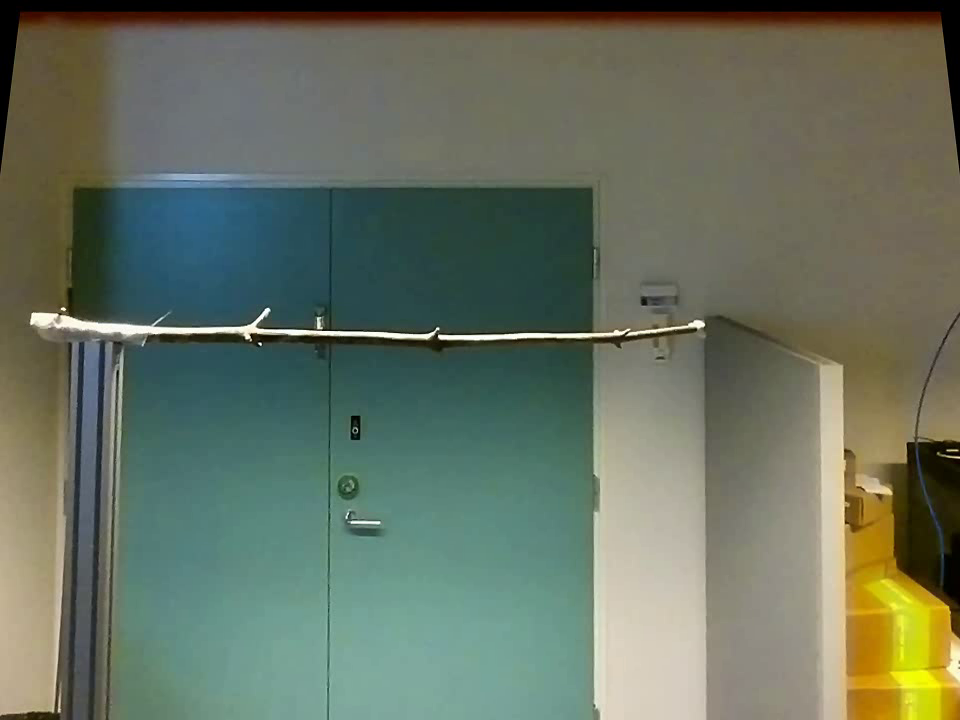aluminum_frame: (49, 339, 129, 717)
branch: (176, 299, 685, 361)
